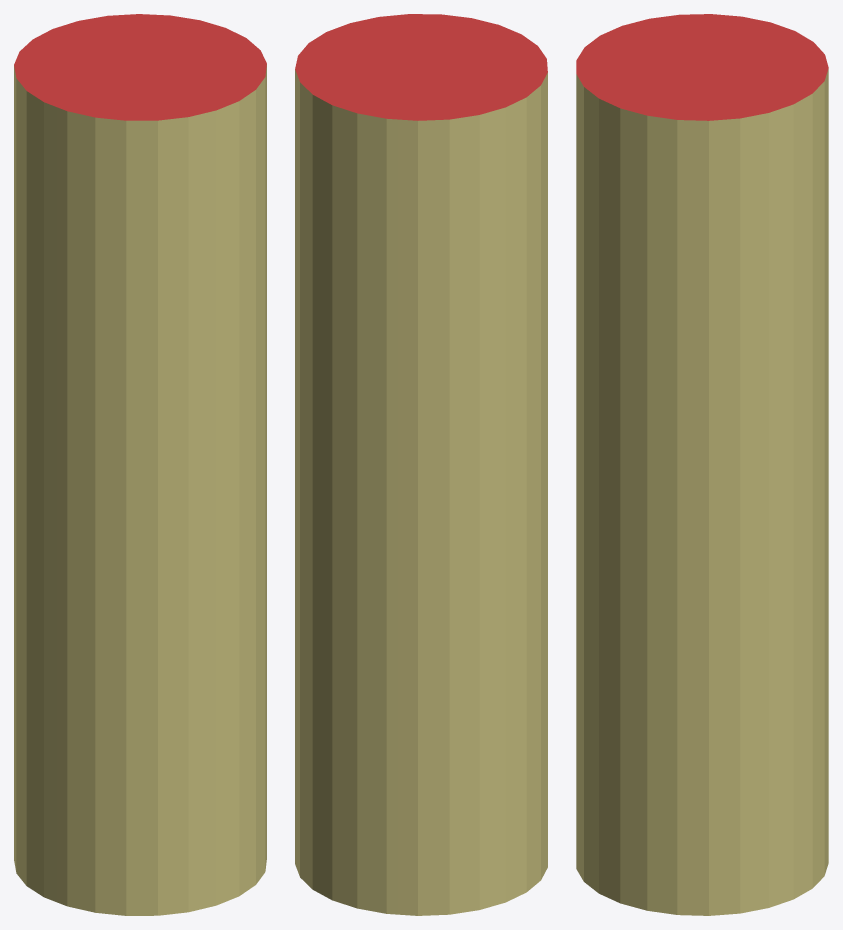
3 views of the same model, side by side, from view 1: azimuth 30°, elevation 25°; view 2: azimuth 150°, elevation 25°; view 3: azimuth 270°, elevation 25° (orthographic).
Bounding box in the file's own units: 3.32 × 3.32 × 11.52.
